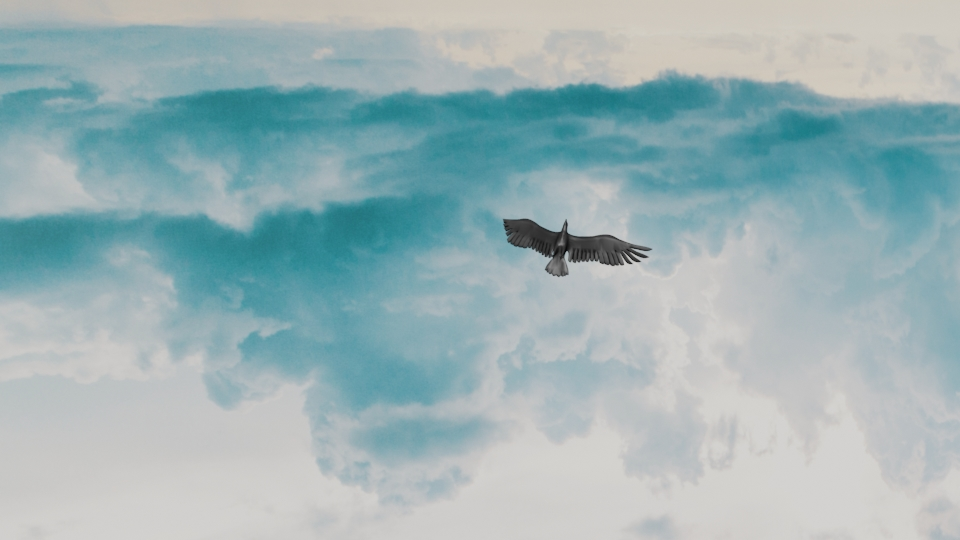bird: (487, 216, 654, 278)
